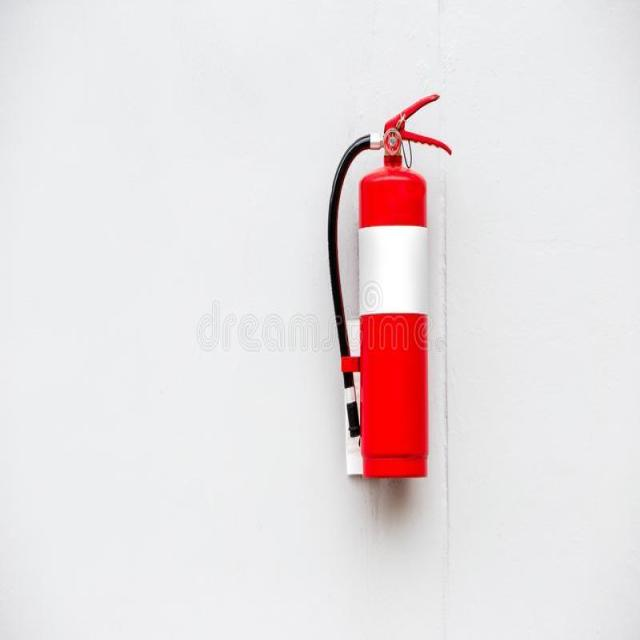fire_extinguisher: (324, 87, 455, 482)
